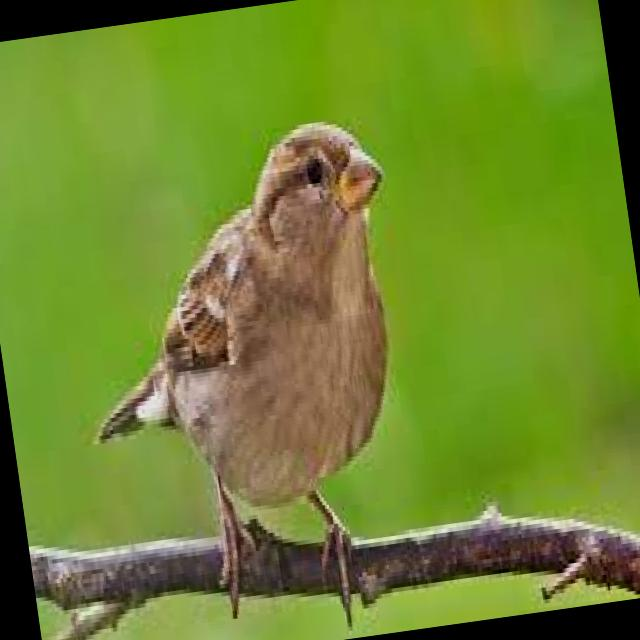bird: (53, 104, 447, 640)
